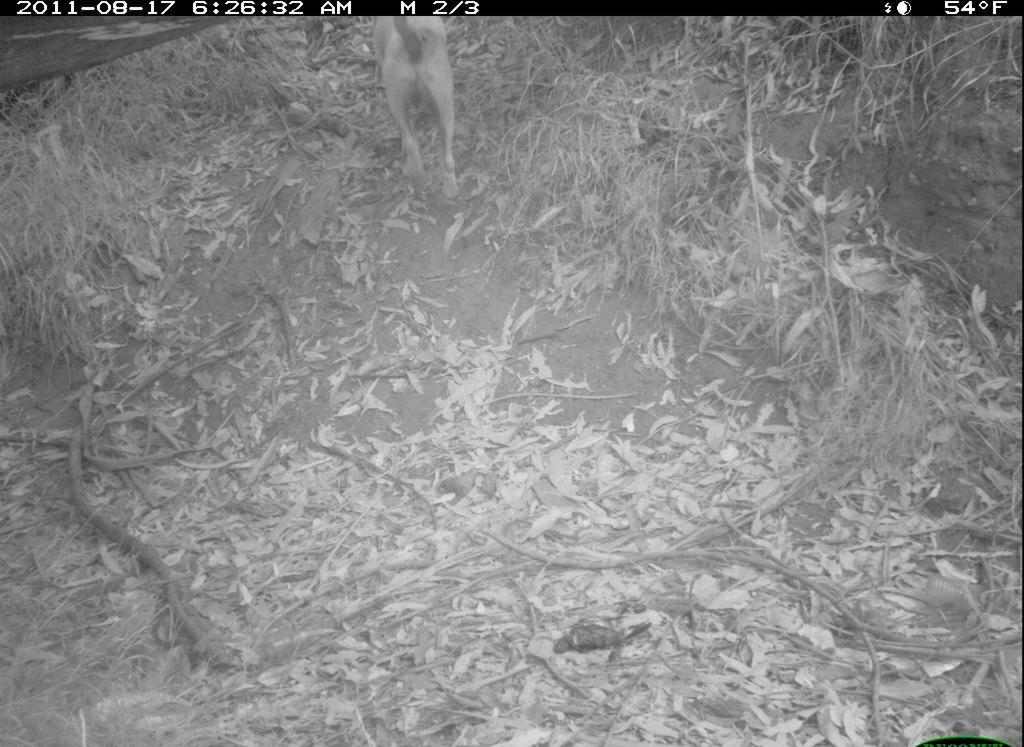dog: (360, 18, 481, 205)
